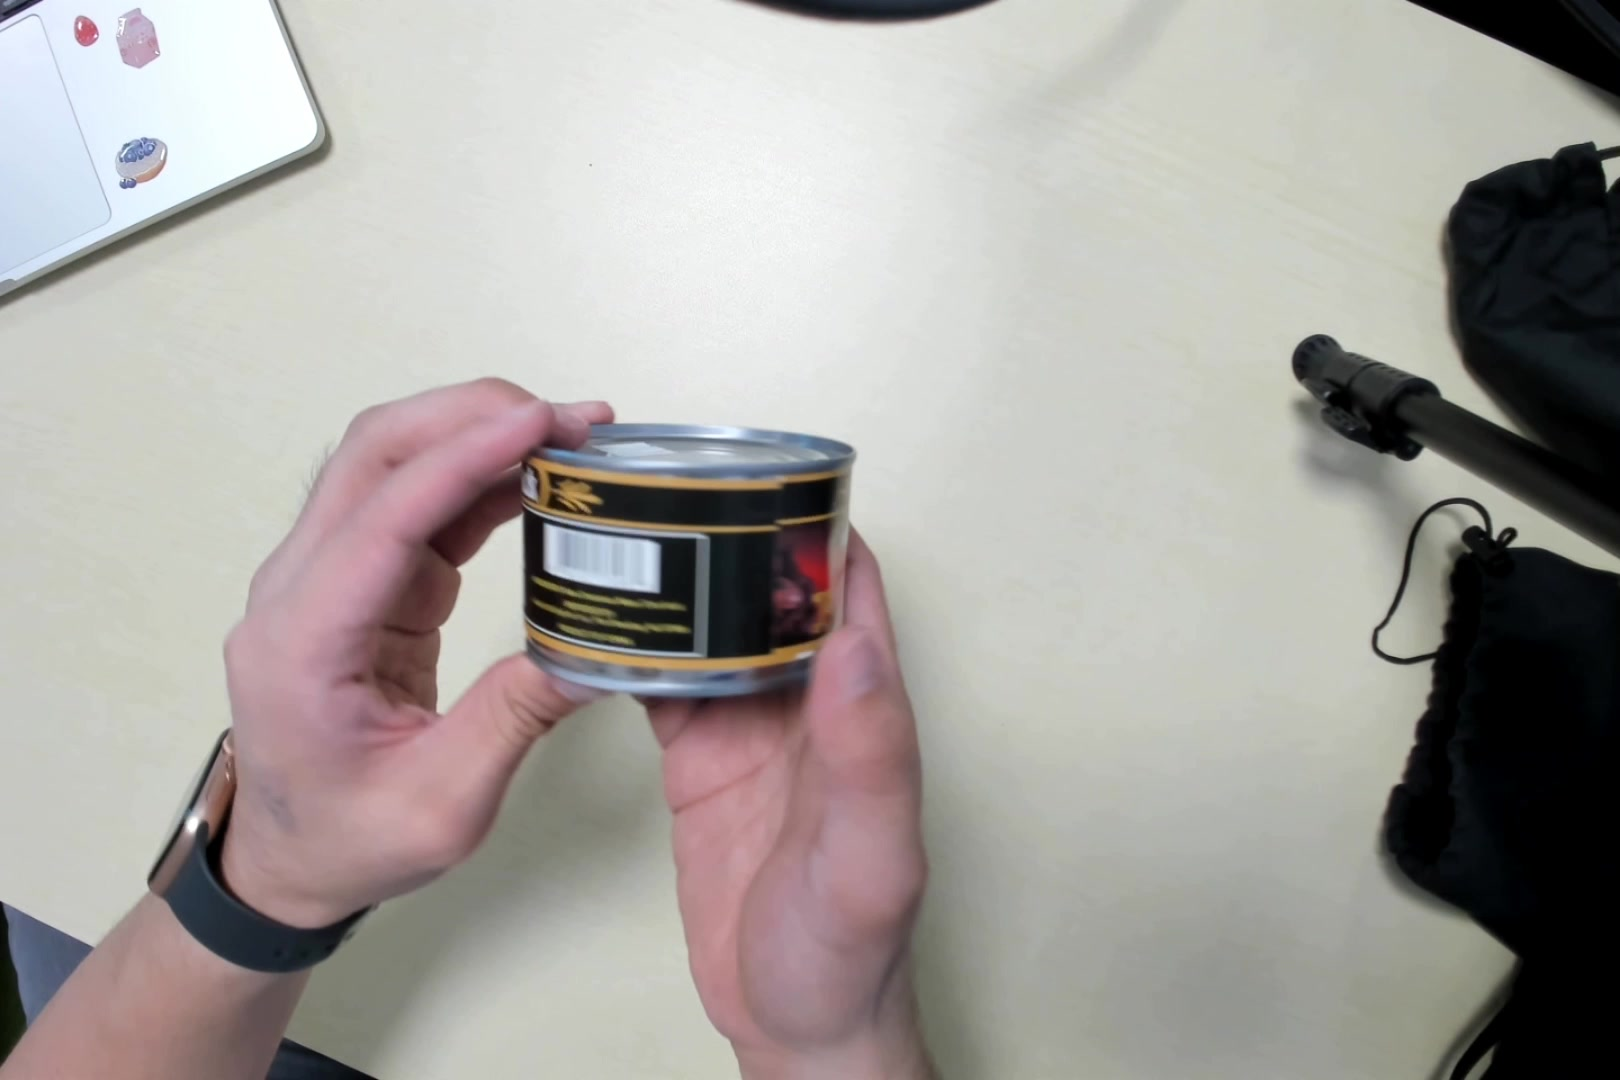CannedVegetarianFood_100-199g_Halal_NonHealthy: (517, 425, 852, 694)
